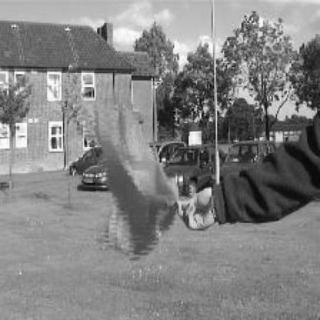other: (87, 97, 180, 257)
